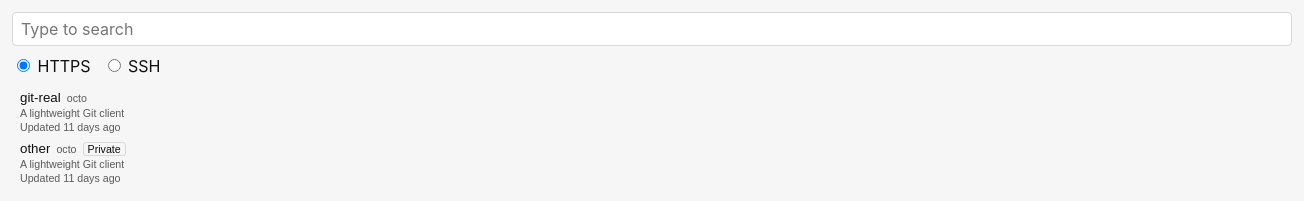
Test: RepoBrowser with one account › shows No repositories match for an empty list and a typed query
Expected: the button with aria-label "Use octo/git-real" is shown, x1=12 y1=86 x2=1292 y2=137
Step 1. Type "zzz" into the search field named "Search repositories" → (652, 29), box x1=12 y1=12 x2=1292 y2=46
Wait 300 ms
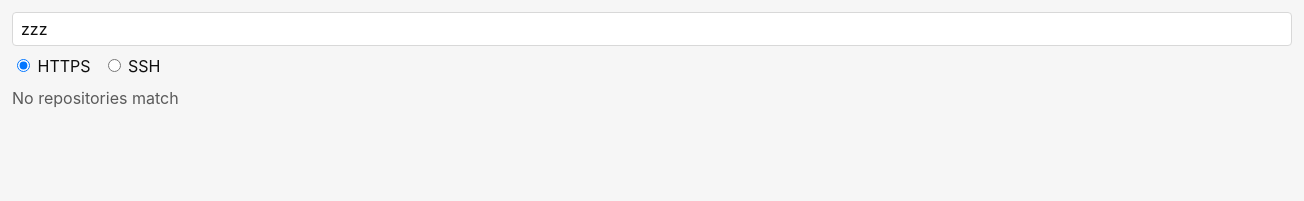
Now the text "No repositories match" is shown, box x1=12 y1=88 x2=179 y2=108
